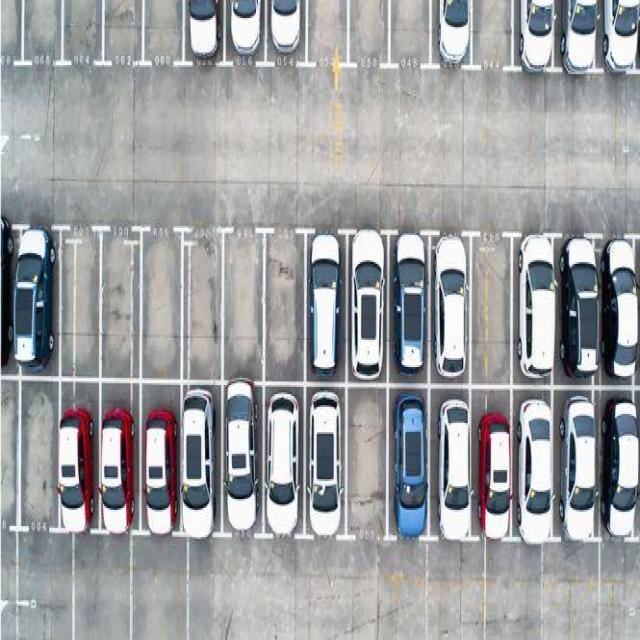Car: (511, 391, 563, 553), (343, 220, 392, 388), (554, 391, 606, 548), (426, 394, 479, 546), (555, 228, 603, 389), (301, 383, 349, 544), (304, 229, 352, 389), (15, 224, 62, 386), (386, 224, 432, 385), (511, 232, 558, 389), (221, 380, 266, 543), (263, 382, 308, 545), (428, 230, 473, 387), (599, 222, 640, 388), (137, 381, 180, 539), (100, 380, 142, 540), (386, 390, 429, 546), (475, 396, 518, 550), (182, 381, 221, 545), (57, 381, 96, 536), (601, 393, 640, 544), (558, 0, 602, 84), (514, 0, 560, 78), (434, 0, 480, 75), (266, 1, 312, 71), (602, 0, 639, 79), (0, 218, 18, 376), (187, 0, 230, 65), (228, 0, 266, 64)
Free: (178, 222, 234, 392), (132, 216, 187, 387), (259, 223, 312, 389), (219, 220, 269, 389), (97, 218, 147, 386), (468, 224, 518, 392), (341, 386, 393, 544), (59, 224, 108, 384), (15, 376, 59, 536), (0, 378, 28, 537), (19, 0, 72, 82), (97, 0, 152, 75), (59, 0, 112, 76), (386, 0, 437, 77), (139, 0, 190, 76), (469, 0, 518, 75), (308, 0, 356, 74), (350, 0, 395, 78), (0, 0, 33, 71)
